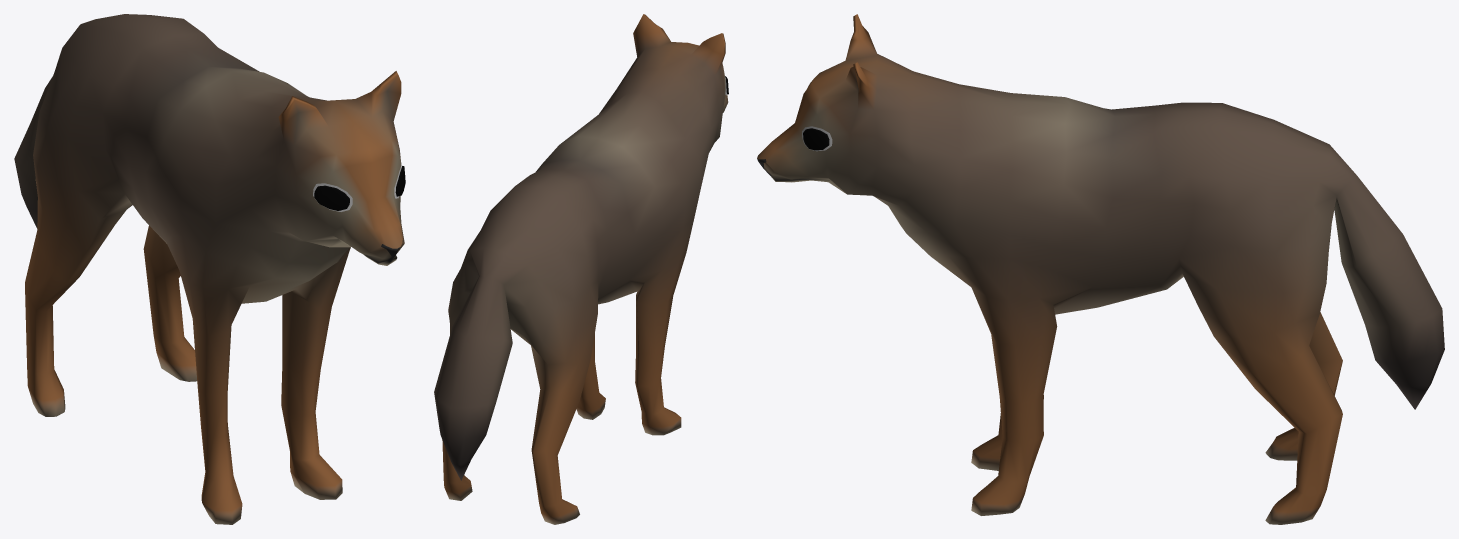
Rendered from animals-animals-coyote_v1.fbx.
The picture shows the model from 3 angles, left to right: view 1: azimuth 30°, elevation 25°; view 2: azimuth 150°, elevation 25°; view 3: azimuth 270°, elevation 25°; orthographic projection. The views are drawn at different scales.
Visible parts, largest first — view 1: Coyote.001; view 2: Coyote.001; view 3: Coyote.001.
Part boxes in pixels (left/top/right/bottom): Coyote.001: left=14, top=14, right=405, bottom=524; Coyote.001: left=434, top=14, right=728, bottom=524; Coyote.001: left=757, top=14, right=1444, bottom=524.
Bounding box in the file's own units: 0.3976 × 1.07 × 1.48.
